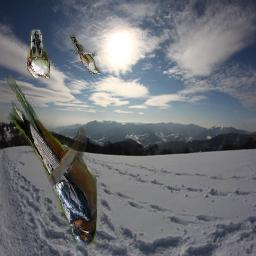Cuckoo: (70, 34, 100, 74), (28, 30, 51, 79)
Swallow: (7, 76, 97, 247)
